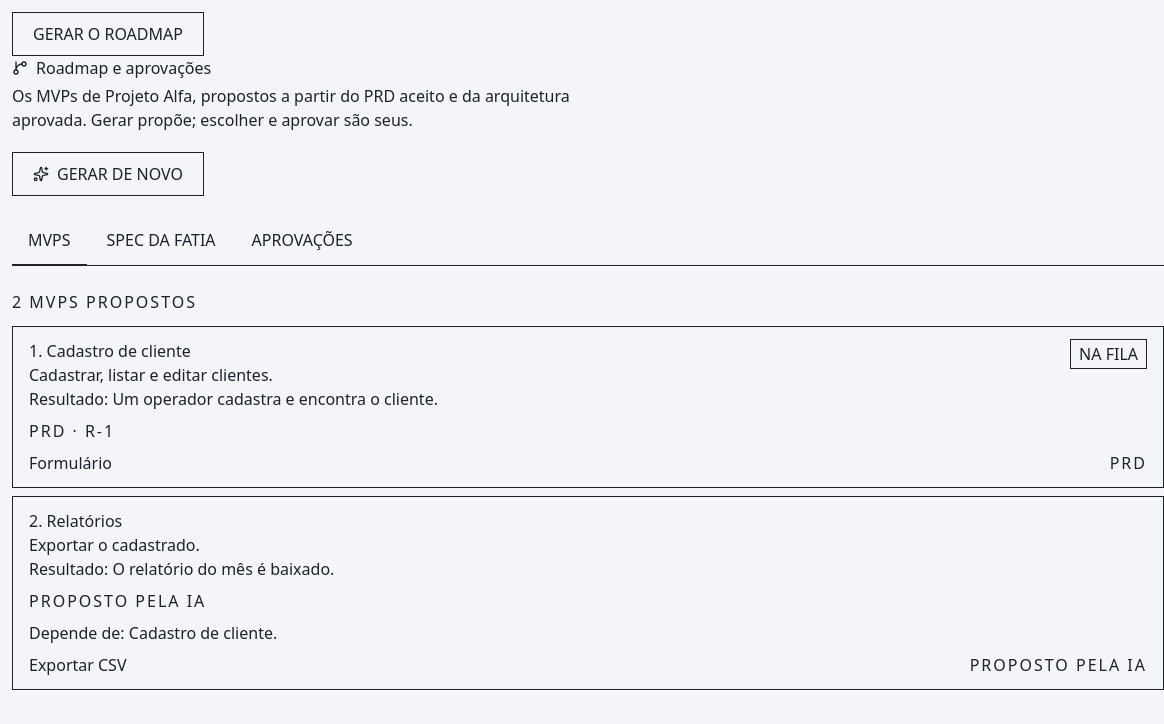
Test: a SPEC e as perguntas abertas (critério 4) › a pergunta aberta diz que trava o aceite
Click the tab "SPEC da fatia" at {"x": 161, "y": 241}, box [91,216,232,266]
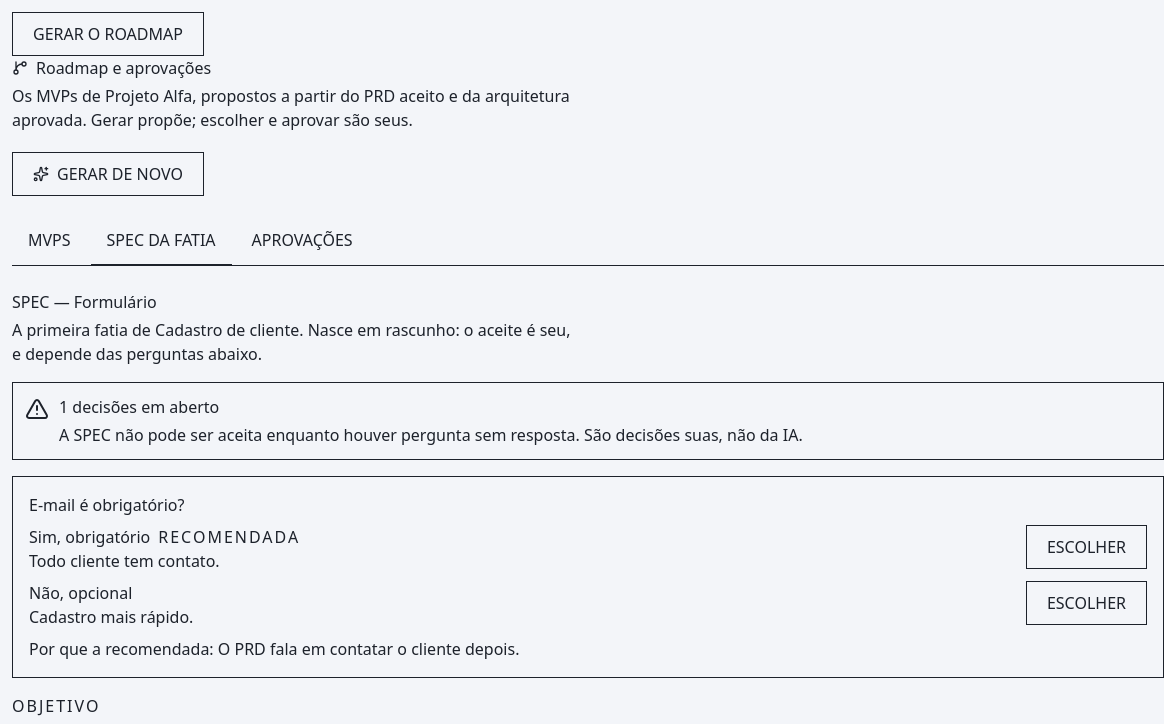
Now the text "1 decisões em aberto" is shown, box [58,395,219,418]
Now the text "não pode ser aceita enquanto houver pergunta" is shown, box [59,424,803,446]
